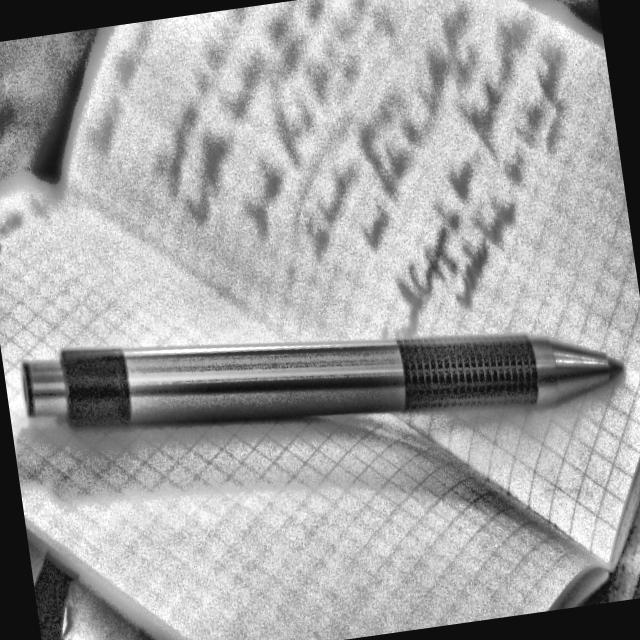Notebook: (0, 0, 640, 640)
Pen: (12, 213, 625, 500)
